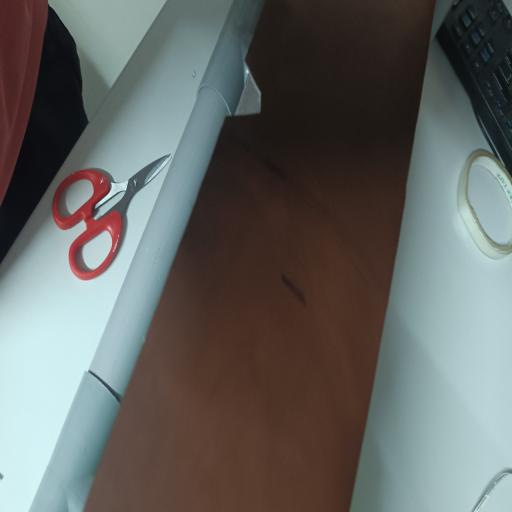belt_tear: (191, 30, 426, 298)
